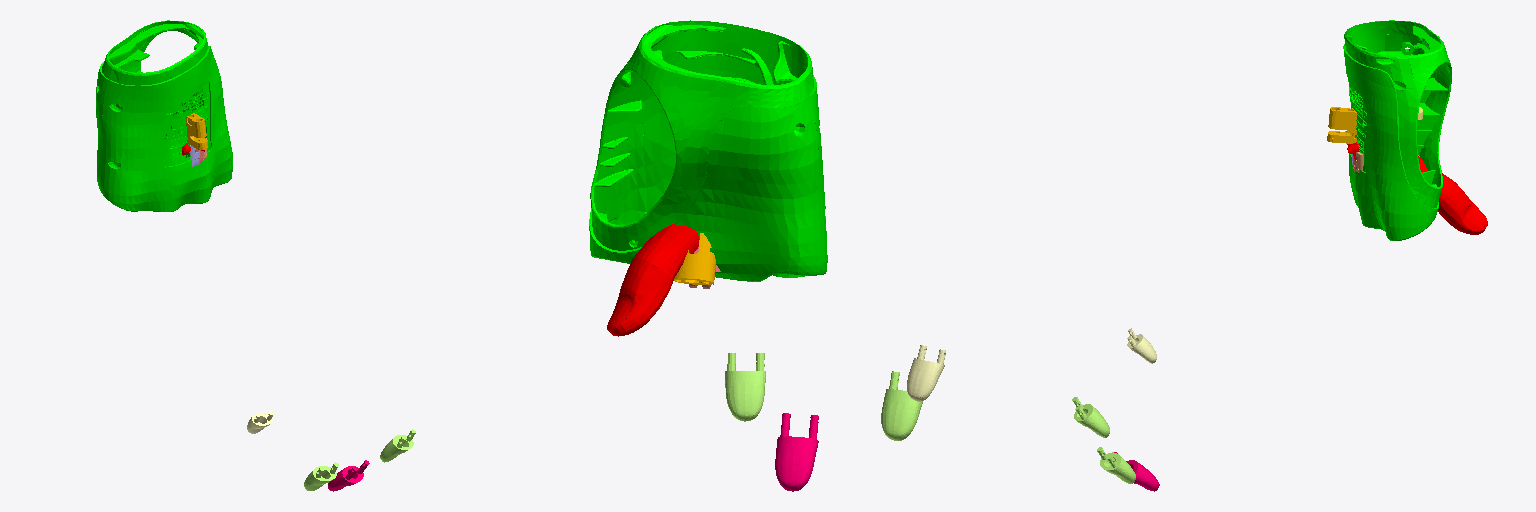
--- Render facts (derived) ---
Views: 3 orthographic renders of the robot side by side, from view 1: azimuth 30°, elevation 25°; view 2: azimuth 150°, elevation 25°; view 3: azimuth 270°, elevation 25°.
Robot: COVER — 24 links, 23 joints (12 continuous, 11 fixed); root link 1_A; default pose: all joints at 0.
Visible links, largest first — view 1: 1_A, PAF1002500, PAF1004900, PAF1004800, PAF10048000; view 2: 1_A, CUTOUT, PAF1004900, PAF1004800, PAF10048000, PAF1005000, PAF1004600; view 3: 1_A, CUTOUT, PAF1002500, PAF10048000, PAF1004800, PAF1005000.
Link boxes in pixels (<box>): 1_A: <box>96,20,232,211</box>; PAF1002500: <box>186,113,207,149</box>; PAF1004900: <box>328,460,369,491</box>; PAF1004800: <box>380,429,415,462</box>; PAF10048000: <box>304,462,338,490</box>; 1_A: <box>589,20,827,281</box>; CUTOUT: <box>607,223,699,336</box>; PAF1004900: <box>775,413,818,491</box>; PAF1004800: <box>725,353,765,421</box>; PAF10048000: <box>881,371,922,440</box>; PAF1005000: <box>907,345,945,401</box>; PAF1004600: <box>674,233,715,284</box>; 1_A: <box>1343,20,1451,240</box>; CUTOUT: <box>1347,142,1487,234</box>; PAF1002500: <box>1327,107,1356,143</box>; PAF10048000: <box>1072,397,1109,437</box>; PAF1004800: <box>1097,447,1135,483</box>; PAF1005000: <box>1127,328,1156,363</box>.
Bounding box of the posed robot: 118 × 206 × 231 m (x, y, z).
24 mesh visuals loaded from 21 distinct referenced files (21 binary STL).

URDF robot description (COVER):
<robot name="COVER">
  <link name="1_A">
    <inertial>
      <origin xyz="-0.00851236 -0.000890128 0.00760393" rpy="0 0 0"/>
      <mass value="33073300.0"/>
      <inertia ixx="27909.2" ixy="-734.642" ixz="2667.27" iyy="41786.8" iyz="-818.311" izz="27561.8"/>
    </inertial>
    <visual>
      <origin xyz="0 0 0" rpy="0 0 0"/>
      <geometry>
        <mesh filename="package://advr_mob_plt_description/urdf/meshes/1_a_asm-binary.stl"/>
      </geometry>
      <material name="green">
        <color rgba="0 1 0 1"/>
      </material>
    </visual>
    <collision>
      <origin xyz="0 0 0" rpy="0 0 0"/>
      <geometry>
        <mesh filename="package://advr_mob_plt_description/urdf/meshes/1_a_asm-binary.stl"/>
      </geometry>
    </collision>
  </link>
  <link name="PAF1003500">
    <inertial>
      <origin xyz="0.0565801 -0.00585679742923 0.0144999582113" rpy="0 0 0"/>
      <mass value="0.0178762"/>
      <inertia ixx="1.68676e-07" ixy="-8.48721e-10" ixz="0.0" iyy="2.08482e-07" iyz="-1.75547e-10" izz="3.51666e-07"/>
    </inertial>
    <visual>
      <origin xyz="0.0579 -0.0058655590092 0.0129999547585" rpy="0 0 0"/>
      <geometry>
        <mesh filename="package://advr_mob_plt_description/urdf/meshes/paf1003500_prt-binary.stl"/>
      </geometry>
      <material name="PAF1003500_color">
        <color rgba="1.0 0.75 0.5 1.0"/>
      </material>
    </visual>
    <collision>
      <origin xyz="0.0579 -0.0058655590092 0.0129999547585" rpy="0 0 0"/>
      <geometry>
        <mesh filename="package://advr_mob_plt_description/urdf/meshes/paf1003500_prt-binary.stl"/>
      </geometry>
    </collision>
  </link>
  <joint name="1_A--PAF1003500" type="fixed">
    <origin xyz="0.0064 0.0129326 0.0275" rpy="1.04719714741 1.57079632679 0"/>
    <axis xyz="1.0 0.0 1.11022302463e-16"/>
    <parent link="1_A"/>
    <child link="PAF1003500"/>
    <!-- <limit effort="10000" lower="-10000" upper="10000" velocity="10000"/> -->
    <dynamics damping="0.1"/>
  </joint>
  <link name="PAF1003600">
    <inertial>
      <origin xyz="-0.00116205216058 3.05791691174e-06 0.00150000896652" rpy="0 0 0"/>
      <mass value="0.0185208"/>
      <inertia ixx="1.7357e-07" ixy="-3.02838e-10" ixz="0.0" iyy="2.2409e-07" iyz="2.813e-10" izz="3.71201e-07"/>
    </inertial>
    <visual>
      <origin xyz="0 0 0" rpy="0 0 0"/>
      <geometry>
        <mesh filename="package://advr_mob_plt_description/urdf/meshes/paf1003600_prt-binary.stl"/>
      </geometry>
      <material name="PAF1003600_color">
        <color rgba="1.0 1.0 0.5 1.0"/>
      </material>
    </visual>
    <collision>
      <origin xyz="0 0 0" rpy="0 0 0"/>
      <geometry>
        <mesh filename="package://advr_mob_plt_description/urdf/meshes/paf1003600_prt-binary.stl"/>
      </geometry>
    </collision>
  </link>
  <joint name="PAF1003500--PAF1003600" type="fixed">
    <origin xyz="0.0592001 -0.0253344455309 0.00558093270826" rpy="0.610667950713 0.0166457985469 -0.0338769692659"/>
    <parent link="PAF1003500"/>
    <child link="PAF1003600"/>
    <dynamics damping="0.1"/>
  </joint>
  <link name="PAF1003700">
    <inertial>
      <origin xyz="-0.00155187581715 2.24507211835e-06 0.00110000076463" rpy="0 0 0"/>
      <mass value="0.012343"/>
      <inertia ixx="1.12951e-07" ixy="-1.54627e-10" ixz="0.0" iyy="1.32077e-07" iyz="1.73155e-11" izz="2.35416e-07"/>
    </inertial>
    <visual>
      <origin xyz="0 0 0" rpy="0 0 0"/>
      <geometry>
        <mesh filename="package://advr_mob_plt_description/urdf/meshes/paf1003700_prt-binary.stl"/>
      </geometry>
      <material name="black">
        <color rgba="0 0 0 1"/>
      </material>
    </visual>
    <collision>
      <origin xyz="0 0 0" rpy="0 0 0"/>
      <geometry>
        <mesh filename="package://advr_mob_plt_description/urdf/meshes/paf1003700_prt-binary.stl"/>
      </geometry>
    </collision>
  </link>
  <joint name="PAF1003600--PAF1003700" type="fixed">
    <origin xyz="-0.010973824593 -0.0237500416593 0.0027448885293" rpy="2.89289229734e-07 0.0108849789956 2.60776268803e-07"/>
    <parent link="PAF1003600"/>
    <child link="PAF1003700"/>
    <dynamics damping="0.1"/>
  </joint>
  <link name="PAF1004101">
    <inertial>
      <origin xyz="0.00337449004586 0.00346063716788 5.24457528966e-06" rpy="0 0 0"/>
      <mass value="0.0285302"/>
      <inertia ixx="6.75022e-07" ixy="-9.95271e-08" ixz="4.75049e-10" iyy="6.18247e-07" iyz="-2.22533e-10" izz="1.06625e-06"/>
    </inertial>
    <visual>
      <origin xyz="-0.00349994987012 -0.00602711473712 0" rpy="0 0 0"/>
      <geometry>
        <mesh filename="package://advr_mob_plt_description/urdf/meshes/paf1004101_prt-binary.stl"/>
      </geometry>
      <material name="PAF1004101_color">
        <color rgba="0.75 1.0 0.5 1.0"/>
      </material>
    </visual>
    <collision>
      <origin xyz="-0.00349994987012 -0.00602711473712 0" rpy="0 0 0"/>
      <geometry>
        <mesh filename="package://advr_mob_plt_description/urdf/meshes/paf1004101_prt-binary.stl"/>
      </geometry>
    </collision>
  </link>
  <joint name="PAF1003700--PAF1004101" type="continuous">
    <origin xyz="0.00409999738364 -0.00022020930368 -0.00208128063487" rpy="1.51319995882 0 -1.92248358723e-07"/>
    <axis xyz="8.10671871038e-09 -0.999999773716 -2.05797691055e-08"/>
    <parent link="PAF1003700"/>
    <child link="PAF1004101"/>
    <dynamics damping="0.1"/>
  </joint>
  <link name="PAF1004401">
    <inertial>
      <origin xyz="0 -0.000635181088434 0.0128666591798" rpy="0 0 0"/>
      <mass value="0.0032677"/>
      <inertia ixx="2.13703e-07" ixy="0.0" ixz="0.0" iyy="2.30372e-07" iyz="4.37112e-09" izz="8.40469e-08"/>
    </inertial>
    <visual>
      <origin xyz="0 -0.00100001306321 -0.00275005057186" rpy="0 0 0"/>
      <geometry>
        <mesh filename="package://advr_mob_plt_description/urdf/meshes/paf1004401_prt-binary.stl"/>
      </geometry>
      <material name="PAF1004401_color">
        <color rgba="1.0 0.75 1.0 1.0"/>
      </material>
    </visual>
    <collision>
      <origin xyz="0 -0.00100001306321 -0.00275005057186" rpy="0 0 0"/>
      <geometry>
        <mesh filename="package://advr_mob_plt_description/urdf/meshes/paf1004401_prt-binary.stl"/>
      </geometry>
    </collision>
  </link>
  <joint name="PAF1004101--PAF1004401" type="continuous">
    <origin xyz="0.00680006790744 0.00287288887084 0" rpy="-0.0650227536044 1.57079620993 -0.145307867413"/>
    <axis xyz="0.999999678896 1.99802328055e-08 2.77878688046e-08"/>
    <parent link="PAF1004101"/>
    <child link="PAF1004401"/>
    <dynamics damping="0.1"/>
  </joint>
  <link name="PAF1004700">
    <inertial>
      <origin xyz="0 -0.000509435776404 -0.00958875825158" rpy="0 0 0"/>
      <mass value="0.0408908"/>
      <inertia ixx="2.14528e-06" ixy="0.0" ixz="0.0" iyy="2.51952e-06" iyz="4.17804e-08" izz="8.9931e-07"/>
    </inertial>
    <visual>
      <origin xyz="0 0 0.00385999069066" rpy="0 0 0"/>
      <geometry>
        <mesh filename="package://advr_mob_plt_description/urdf/meshes/paf1004700_prt-binary.stl"/>
      </geometry>
      <material name="PAF1004700_color">
        <color rgba="0.75 0.75 0.75 1.0"/>
      </material>
    </visual>
    <collision>
      <origin xyz="0 0 0.00385999069066" rpy="0 0 0"/>
      <geometry>
        <mesh filename="package://advr_mob_plt_description/urdf/meshes/paf1004700_prt-binary.stl"/>
      </geometry>
    </collision>
  </link>
  <joint name="PAF1004401--PAF1004700" type="continuous">
    <origin xyz="0 0 0.0264999181582" rpy="-2.74016716134 0 0"/>
    <axis xyz="-0.999999678896 -1.31398492954e-08 3.17077668288e-09"/>
    <parent link="PAF1004401"/>
    <child link="PAF1004700"/>
    <dynamics damping="0.1"/>
  </joint>
  <link name="PAF1005000">
    <inertial>
      <origin xyz="-0.00821744275544 0.166383805335 0.0478608998359" rpy="0 0 0"/>
      <mass value="0.000756894"/>
      <inertia ixx="1.78823e-08" ixy="-2.37701e-10" ixz="4.71138e-11" iyy="2.20045e-08" iyz="3.42609e-09" izz="1.21599e-08"/>
    </inertial>
    <visual>
      <origin xyz="0 0 0" rpy="0 0 0"/>
      <geometry>
        <mesh filename="package://advr_mob_plt_description/urdf/meshes/paf1005000_prt-binary.stl"/>
      </geometry>
      <material name="PAF1005000_color">
        <color rgba="1.0 1.0 0.75 1.0"/>
      </material>
    </visual>
    <collision>
      <origin xyz="0 0 0" rpy="0 0 0"/>
      <geometry>
        <mesh filename="package://advr_mob_plt_description/urdf/meshes/paf1005000_prt-binary.stl"/>
      </geometry>
    </collision>
  </link>
  <joint name="PAF1004700--PAF1005000" type="fixed">
    <origin xyz="0.0102527127127 0.167912488786 0.0224838246708" rpy="-3.14159235185 0 -0.0121810646353"/>
    <parent link="PAF1004700"/>
    <child link="PAF1005000"/>
    <dynamics damping="0.1"/>
  </joint>
  <link name="PAF1003400">
    <inertial>
      <origin xyz="-0.0013145 8.67863770326e-06 0.00149996711302" rpy="0 0 0"/>
      <mass value="0.0532202"/>
      <inertia ixx="5.01885e-07" ixy="-2.49665e-09" ixz="0.0" iyy="6.217e-07" iyz="-5.68401e-11" izz="1.04769e-06"/>
    </inertial>
    <visual>
      <origin xyz="0 0 0" rpy="0 0 0"/>
      <geometry>
        <mesh filename="package://advr_mob_plt_description/urdf/meshes/paf1003400_prt-binary.stl"/>
      </geometry>
      <material name="PAF1003400_color">
        <color rgba="0.25 0.5 0.0 1.0"/>
      </material>
    </visual>
    <collision>
      <origin xyz="0 0 0" rpy="0 0 0"/>
      <geometry>
        <mesh filename="package://advr_mob_plt_description/urdf/meshes/paf1003400_prt-binary.stl"/>
      </geometry>
    </collision>
  </link>
  <joint name="1_A--PAF1003400" type="fixed">
    <origin xyz="0.0274589 0.0104263 -0.0272" rpy="1.04719714741 1.57079632679 0"/>
    <parent link="1_A"/>
    <child link="PAF1003400"/>
    <dynamics damping="0.1"/>
  </joint>
  <link name="PAF1003801">
    <inertial>
      <origin xyz="0.0038461 0.00438742504662 1.07098420216e-05" rpy="0 0 0"/>
      <mass value="0.103446"/>
      <inertia ixx="3.58836e-06" ixy="-5.21846e-07" ixz="4.01023e-09" iyy="2.78015e-06" iyz="2.538e-09" izz="4.97765e-06"/>
    </inertial>
    <visual>
      <origin xyz="-0.0035 -0.00698064435777 0" rpy="0 0 0"/>
      <geometry>
        <mesh filename="package://advr_mob_plt_description/urdf/meshes/paf1003801_prt-binary.stl"/>
      </geometry>
      <material name="PAF1003801_color">
        <color rgba="1.0 0.75 0.5 1.0"/>
      </material>
    </visual>
    <collision>
      <origin xyz="-0.0035 -0.00698064435777 0" rpy="0 0 0"/>
      <geometry>
        <mesh filename="package://advr_mob_plt_description/urdf/meshes/paf1003801_prt-binary.stl"/>
      </geometry>
    </collision>
  </link>
  <joint name="PAF1003400--PAF1003801" type="continuous">
    <origin xyz="0.0041 -6.04044680737e-05 -0.00111717563536" rpy="1.58824971908 0 0"/>
    <axis xyz="0.0 -1.00000044025 -1.13856436057e-07"/>
    <parent link="PAF1003400"/>
    <child link="PAF1003801"/>
    <dynamics damping="0.1"/>
  </joint>
  <link name="PAF1004201">
    <inertial>
      <origin xyz="0 -0.00245137136553 0.015615295202" rpy="0 0 0"/>
      <mass value="0.0118295"/>
      <inertia ixx="9.70967e-07" ixy="0.0" ixz="0.0" iyy="1.04991e-06" iyz="2.74792e-08" izz="4.78951e-07"/>
    </inertial>
    <visual>
      <origin xyz="0 -0.00299995632618 -0.00274996304264" rpy="0 0 0"/>
      <geometry>
        <mesh filename="package://advr_mob_plt_description/urdf/meshes/paf1004201_prt-binary.stl"/>
      </geometry>
      <material name="PAF1004201_color">
        <color rgba="0.75 1.0 1.0 1.0"/>
      </material>
    </visual>
    <collision>
      <origin xyz="0 -0.00299995632618 -0.00274996304264" rpy="0 0 0"/>
      <geometry>
        <mesh filename="package://advr_mob_plt_description/urdf/meshes/paf1004201_prt-binary.stl"/>
      </geometry>
    </collision>
  </link>
  <joint name="PAF1003801--PAF1004201" type="continuous">
    <origin xyz="0.0068 0.00361931686599 0" rpy="1.61820653951 1.57079602112 1.56584662577"/>
    <axis xyz="1.00000044025 -1.91634382918e-07 8.52805280907e-09"/>
    <parent link="PAF1003801"/>
    <child link="PAF1004201"/>
    <dynamics damping="0.1"/>
  </joint>
  <link name="PAF1004500">
    <inertial>
      <origin xyz="0 0.000378038466131 -0.0131533470868" rpy="0 0 0"/>
      <mass value="0.190202"/>
      <inertia ixx="1.5478e-05" ixy="0.0" ixz="0.0" iyy="1.78731e-05" iyz="8.8021e-07" izz="6.19301e-06"/>
    </inertial>
    <visual>
      <origin xyz="0 0.000999972692264 0.00385996745234" rpy="0 0 0"/>
      <geometry>
        <mesh filename="package://advr_mob_plt_description/urdf/meshes/paf1004500_prt-binary.stl"/>
      </geometry>
      <material name="PAF1004500_color">
        <color rgba="1.0 0.5 0.5 1.0"/>
      </material>
    </visual>
    <collision>
      <origin xyz="0 0.000999972692264 0.00385996745234" rpy="0 0 0"/>
      <geometry>
        <mesh filename="package://advr_mob_plt_description/urdf/meshes/paf1004500_prt-binary.stl"/>
      </geometry>
    </collision>
  </link>
  <joint name="PAF1004201--PAF1004500" type="continuous">
    <origin xyz="0 -0.00199998503613 0.0304999704087" rpy="-2.68780710036 2.39771271023e-07 0"/>
    <axis xyz="-1.00000044025 -6.51257134887e-08 3.08022348461e-07"/>
    <parent link="PAF1004201"/>
    <child link="PAF1004500"/>
    <dynamics damping="0.1"/>
  </joint>
  <link name="PAF1004800">
    <inertial>
      <origin xyz="-0.0099602563359 0.201702352802 0.0578870067878" rpy="0 0 0"/>
      <mass value="0.00137117"/>
      <inertia ixx="4.86452e-08" ixy="-6.1421e-10" ixz="1.24462e-10" iyy="5.9837e-08" iyz="9.17469e-09" izz="3.23765e-08"/>
    </inertial>
    <visual>
      <origin xyz="0 0 0" rpy="0 0 0"/>
      <geometry>
        <mesh filename="package://advr_mob_plt_description/urdf/meshes/paf1004800_prt-binary.stl"/>
      </geometry>
      <material name="PAF1004800_color">
        <color rgba="0.75 1.0 0.5 1.0"/>
      </material>
    </visual>
    <collision>
      <origin xyz="0 0 0" rpy="0 0 0"/>
      <geometry>
        <mesh filename="package://advr_mob_plt_description/urdf/meshes/paf1004800_prt-binary.stl"/>
      </geometry>
    </collision>
  </link>
  <joint name="PAF1004500--PAF1004800" type="fixed">
    <origin xyz="0.012634062015 0.204488748855 0.0245263019307" rpy="3.14159234484 0 -0.0131926098327"/>
    <parent link="PAF1004500"/>
    <child link="PAF1004800"/>
    <dynamics damping="0.1"/>
  </joint>
  <link name="PAF1002300">
    <inertial>
      <origin xyz="0.00253507204005 -0.00229951276095 0.00618126851302" rpy="0 0 0"/>
      <mass value="48784.5"/>
      <inertia ixx="5.95798" ixy="-0.401445" ixz="-0.35458" iyy="5.30297" iyz="-0.836671" izz="1.73284"/>
    </inertial>
    <visual>
      <origin xyz="0 0 0" rpy="0 0 0"/>
      <geometry>
        <mesh filename="package://advr_mob_plt_description/urdf/meshes/paf1002300_prt-binary.stl"/>
      </geometry>
      <material name="PAF1002300_color">
        <color rgba="1.0 1.0 0.53 1.0"/>
      </material>
    </visual>
    <collision>
      <origin xyz="0 0 0" rpy="0 0 0"/>
      <geometry>
        <mesh filename="package://advr_mob_plt_description/urdf/meshes/paf1002300_prt-binary.stl"/>
      </geometry>
    </collision>
  </link>
  <joint name="1_A--PAF1002300" type="fixed">
    <origin xyz="0.0198447 0.0133727 0.00627751" rpy="-0.123389636399 0.0215437373873 0.976908191421"/>
    <parent link="1_A"/>
    <child link="PAF1002300"/>
    <dynamics damping="0.1"/>
  </joint>
  <link name="PAF1002500">
    <inertial>
      <origin xyz="-0.00275808533534 3.52640456902e-06 0.0111128431851" rpy="0 0 0"/>
      <mass value="0.0602771"/>
      <inertia ixx="2.98829e-06" ixy="-7.6075e-09" ixz="-2.00989e-06" iyy="6.42168e-06" iyz="6.01804e-09" izz="3.96698e-06"/>
    </inertial>
    <visual>
      <origin xyz="-0.0166000096495 0 0.0299756090659" rpy="0 0 0"/>
      <geometry>
        <mesh filename="package://advr_mob_plt_description/urdf/meshes/paf1002500_prt-binary.stl"/>
      </geometry>
      <material name="PAF1002500_color">
        <color rgba="1.0 0.75 0.0 1.0"/>
      </material>
    </visual>
    <collision>
      <origin xyz="-0.0166000096495 0 0.0299756090659" rpy="0 0 0"/>
      <geometry>
        <mesh filename="package://advr_mob_plt_description/urdf/meshes/paf1002500_prt-binary.stl"/>
      </geometry>
    </collision>
  </link>
  <joint name="PAF1002300--PAF1002500" type="continuous">
    <origin xyz="0.00300004969001 0.00200000069035 0.0150000109907" rpy="-2.49288797385 -1.57079573376 -0.0203859886655"/>
    <axis xyz="-1.0000001741 4.77024647005e-07 2.31302308709e-07"/>
    <parent link="PAF1002300"/>
    <child link="PAF1002500"/>
    <dynamics damping="0.1"/>
  </joint>
  <link name="CUTOUT">
    <inertial>
      <origin xyz="-0.00427890232251 0.0428929456311 0.0212657717695" rpy="0 0 0"/>
      <mass value="179552000.0"/>
      <inertia ixx="32967.8" ixy="1307.73" ixz="2032.15" iyy="18273.7" iyz="-13519.7" izz="22160.5"/>
    </inertial>
    <visual>
      <origin xyz="0 0.0168000118318 -0.00395002489474" rpy="0 0 0"/>
      <geometry>
        <mesh filename="package://advr_mob_plt_description/urdf/meshes/cutout_asm-binary.stl"/>
      </geometry>
      <material name="red">
        <color rgba="1 0 0 1"/>
      </material>
    </visual>
    <collision>
      <origin xyz="0 0.0168000118318 -0.00395002489474" rpy="0 0 0"/>
      <geometry>
        <mesh filename="package://advr_mob_plt_description/urdf/meshes/cutout_asm-binary.stl"/>
      </geometry>
    </collision>
  </link>
  <joint name="PAF1002500--CUTOUT" type="continuous">
    <origin xyz="0.00739996744688 0 0.0211499675285" rpy="1.51980062539 -1.31188481634e-07 -1.57079678869"/>
    <axis xyz="1.00000033972 1.92759832931e-08 -1.39895338369e-08"/>
    <parent link="PAF1002500"/>
    <child link="CUTOUT"/>
    <dynamics damping="0.1"/>
  </joint>
  <link name="PAF1003901">
    <inertial>
      <origin xyz="0.0073481 0.0113598209544 8.01978724352e-06" rpy="0 0 0"/>
      <mass value="0.100064"/>
      <inertia ixx="3.47461e-06" ixy="-5.08058e-07" ixz="2.92797e-09" iyy="2.68917e-06" iyz="6.72829e-09" izz="4.81884e-06"/>
    </inertial>
    <visual>
      <origin xyz="0 0 0" rpy="0 0 0"/>
      <geometry>
        <mesh filename="package://advr_mob_plt_description/urdf/meshes/paf1003901_prt-binary.stl"/>
      </geometry>
      <material name="PAF1003901_color">
        <color rgba="1.0 0.5 0.5 1.0"/>
      </material>
    </visual>
    <collision>
      <origin xyz="0 0 0" rpy="0 0 0"/>
      <geometry>
        <mesh filename="package://advr_mob_plt_description/urdf/meshes/paf1003901_prt-binary.stl"/>
      </geometry>
    </collision>
  </link>
  <joint name="1_A--PAF1003901" type="fixed">
    <origin xyz="0.00501112 0.00642236 -0.031" rpy="2.77507338117 1.57079632679 0"/>
    <parent link="1_A"/>
    <child link="PAF1003901"/>
    <dynamics damping="0.1"/>
  </joint>
  <link name="PAF1004301">
    <inertial>
      <origin xyz="0 -0.00252752490586 0.0170952088421" rpy="0 0 0"/>
      <mass value="0.332988"/>
      <inertia ixx="3.11824e-05" ixy="0.0" ixz="0.0" iyy="3.3177e-05" iyz="7.74984e-07" izz="1.34653e-05"/>
    </inertial>
    <visual>
      <origin xyz="0 -0.00299999735365 -0.00274996097933" rpy="0 0 0"/>
      <geometry>
        <mesh filename="package://advr_mob_plt_description/urdf/meshes/paf1004301_prt-binary.stl"/>
      </geometry>
      <material name="PAF1004301_color">
        <color rgba="0.75 0.5 0.5 1.0"/>
      </material>
    </visual>
    <collision>
      <origin xyz="0 -0.00299999735365 -0.00274996097933" rpy="0 0 0"/>
      <geometry>
        <mesh filename="package://advr_mob_plt_description/urdf/meshes/paf1004301_prt-binary.stl"/>
      </geometry>
    </collision>
  </link>
  <joint name="PAF1003901--PAF1004301" type="continuous">
    <origin xyz="0.0103 0.0105999975515 0" rpy="2.42173061657 1.57079629976 2.36937073268"/>
    <axis xyz="0.999999619912 -8.81751169857e-08 2.40175518709e-08"/>
    <parent link="PAF1003901"/>
    <child link="PAF1004301"/>
    <dynamics damping="0.1"/>
  </joint>
  <link name="PAF1004600">
    <inertial>
      <origin xyz="0 0.000411225942409 -0.0151843696958" rpy="0 0 0"/>
      <mass value="0.221705"/>
      <inertia ixx="2.18438e-05" ixy="0.0" ixz="0.0" iyy="2.42753e-05" iyz="1.21878e-06" izz="7.13719e-06"/>
    </inertial>
    <visual>
      <origin xyz="0 0.00100000491117 0.00386000785583" rpy="0 0 0"/>
      <geometry>
        <mesh filename="package://advr_mob_plt_description/urdf/meshes/paf1004600_prt-binary.stl"/>
      </geometry>
      <material name="PAF1004600_color">
        <color rgba="1.0 0.75 0.0 1.0"/>
      </material>
    </visual>
    <collision>
      <origin xyz="0 0.00100000491117 0.00386000785583" rpy="0 0 0"/>
      <geometry>
        <mesh filename="package://advr_mob_plt_description/urdf/meshes/paf1004600_prt-binary.stl"/>
      </geometry>
    </collision>
  </link>
  <joint name="PAF1004301--PAF1004600" type="continuous">
    <origin xyz="0 -0.0019999996639 0.0334999824782" rpy="-2.56563394261 2.42625558312e-07 0"/>
    <axis xyz="-0.999999619912 1.24171011417e-07 2.37297750894e-07"/>
    <parent link="PAF1004301"/>
    <child link="PAF1004600"/>
    <dynamics damping="0.1"/>
  </joint>
  <link name="PAF1004900">
    <inertial>
      <origin xyz="-0.00995657784312 0.202022793011 0.0571031415645" rpy="0 0 0"/>
      <mass value="0.00168109"/>
      <inertia ixx="7.54518e-08" ixy="-7.0908e-10" ixz="1.37313e-10" iyy="8.70907e-08" iyz="1.55857e-08" izz="4.02854e-08"/>
    </inertial>
    <visual>
      <origin xyz="0 0 0" rpy="0 0 0"/>
      <geometry>
        <mesh filename="package://advr_mob_plt_description/urdf/meshes/paf1004900_prt-binary.stl"/>
      </geometry>
      <material name="PAF1004900_color">
        <color rgba="1.0 0.0 0.47 1.0"/>
      </material>
    </visual>
    <collision>
      <origin xyz="0 0 0" rpy="0 0 0"/>
      <geometry>
        <mesh filename="package://advr_mob_plt_description/urdf/meshes/paf1004900_prt-binary.stl"/>
      </geometry>
    </collision>
  </link>
  <joint name="PAF1004600--PAF1004900" type="fixed">
    <origin xyz="0.0126341501855 0.204934730196 0.0190362808699" rpy="3.14159261659 0 -0.0131924863988"/>
    <parent link="PAF1004600"/>
    <child link="PAF1004900"/>
    <dynamics damping="0.1"/>
  </joint>
  <link name="PAF1004001">
    <inertial>
      <origin xyz="0.00736466477151 0.0113537508232 1.12030963288e-05" rpy="0 0 0"/>
      <mass value="0.0996106"/>
      <inertia ixx="3.472e-06" ixy="-5.10258e-07" ixz="4.10239e-09" iyy="2.67736e-06" iyz="-7.64805e-09" izz="4.81157e-06"/>
    </inertial>
    <visual>
      <origin xyz="0 0 0" rpy="0 0 0"/>
      <geometry>
        <mesh filename="package://advr_mob_plt_description/urdf/meshes/paf1004001_prt-binary.stl"/>
      </geometry>
      <material name="PAF1004001_color">
        <color rgba="0.75 0.75 1.0 1.0"/>
      </material>
    </visual>
    <collision>
      <origin xyz="0 0 0" rpy="0 0 0"/>
      <geometry>
        <mesh filename="package://advr_mob_plt_description/urdf/meshes/paf1004001_prt-binary.stl"/>
      </geometry>
    </collision>
  </link>
  <joint name="1_A--PAF1004001" type="fixed">
    <origin xyz="-0.0144769 0.00364492 -0.0322562" rpy="-0.0902211351452 1.53305216713 -3.07481850054"/>
    <parent link="1_A"/>
    <child link="PAF1004001"/>
    <dynamics damping="0.1"/>
  </joint>
  <link name="PAF10042010">
    <inertial>
      <origin xyz="0 -0.00245135170565 0.0156153095918" rpy="0 0 0"/>
      <mass value="0.0118295"/>
      <inertia ixx="9.70967e-07" ixy="0.0" ixz="0.0" iyy="1.04991e-06" iyz="2.74792e-08" izz="4.78951e-07"/>
    </inertial>
    <visual>
      <origin xyz="0 -0.00299999694327 -0.00275003349694" rpy="0 0 0"/>
      <geometry>
        <mesh filename="package://advr_mob_plt_description/urdf/meshes/paf1004201_prt-binary.stl"/>
      </geometry>
      <material name="PAF10042010_color">
        <color rgba="0.75 1.0 1.0 1.0"/>
      </material>
    </visual>
    <collision>
      <origin xyz="0 -0.00299999694327 -0.00275003349694" rpy="0 0 0"/>
      <geometry>
        <mesh filename="package://advr_mob_plt_description/urdf/meshes/paf1004201_prt-binary.stl"/>
      </geometry>
    </collision>
  </link>
  <joint name="PAF1004001--PAF1004201" type="continuous">
    <origin xyz="0.0102999984262 0.0105999886236 0" rpy="-1.08341642813 1.57079591639 -1.13577614629"/>
    <axis xyz="1.00000024783 2.36992810717e-07 -1.72229714934e-08"/>
    <parent link="PAF1004001"/>
    <child link="PAF10042010"/>
    <dynamics damping="0.1"/>
  </joint>
  <link name="PAF10045000">
    <inertial>
      <origin xyz="0 0.000378035977283 -0.013153310539" rpy="0 0 0"/>
      <mass value="0.190202"/>
      <inertia ixx="1.5478e-05" ixy="0.0" ixz="0.0" iyy="1.78731e-05" iyz="8.8021e-07" izz="6.19301e-06"/>
    </inertial>
    <visual>
      <origin xyz="0 0.00100000320798 0.00385999267293" rpy="0 0 0"/>
      <geometry>
        <mesh filename="package://advr_mob_plt_description/urdf/meshes/paf1004500_prt-binary.stl"/>
      </geometry>
      <material name="PAF10045000_color">
        <color rgba="1.0 0.5 0.5 1.0"/>
      </material>
    </visual>
    <collision>
      <origin xyz="0 0.00100000320798 0.00385999267293" rpy="0 0 0"/>
      <geometry>
        <mesh filename="package://advr_mob_plt_description/urdf/meshes/paf1004500_prt-binary.stl"/>
      </geometry>
    </collision>
  </link>
  <joint name="PAF1004201--PAF10045000" type="continuous">
    <origin xyz="0 -0.00199998450996 0.0305000035141" rpy="-2.68780704307 0 3.87885381272e-07"/>
    <axis xyz="-1.00000024783 -1.20997757813e-07 9.61299631563e-08"/>
    <parent link="PAF10042010"/>
    <child link="PAF10045000"/>
    <dynamics damping="0.1"/>
  </joint>
  <link name="PAF10048000">
    <inertial>
      <origin xyz="-0.00996054373334 0.201702796943 0.0578861506305" rpy="0 0 0"/>
      <mass value="0.00137117"/>
      <inertia ixx="4.86452e-08" ixy="-6.1421e-10" ixz="1.24462e-10" iyy="5.9837e-08" iyz="9.17469e-09" izz="3.23765e-08"/>
    </inertial>
    <visual>
      <origin xyz="0 0 0" rpy="0 0 0"/>
      <geometry>
        <mesh filename="package://advr_mob_plt_description/urdf/meshes/paf1004800_prt-binary.stl"/>
      </geometry>
      <material name="PAF10048000_color">
        <color rgba="0.75 1.0 0.5 1.0"/>
      </material>
    </visual>
    <collision>
      <origin xyz="0 0 0" rpy="0 0 0"/>
      <geometry>
        <mesh filename="package://advr_mob_plt_description/urdf/meshes/paf1004800_prt-binary.stl"/>
      </geometry>
    </collision>
  </link>
  <joint name="PAF1004500--PAF10048000" type="fixed">
    <origin xyz="0.0126341894392 0.204489365538 0.0245259411149" rpy="-3.14159241184 0 -0.0131920364392"/>
    <parent link="PAF10045000"/>
    <child link="PAF10048000"/>
    <dynamics damping="0.1"/>
  </joint>
  <gazebo reference="PAF1003500">
    <visual>
      <material>
        <ambient>0.9 0.675 0.45 1.0</ambient>
        <diffuse>0.9 0.675 0.45 1.0</diffuse>
        <specular>0.8 0.6 0.4 1.0</specular>
      </material>
    </visual>
  </gazebo>
  <gazebo reference="PAF1003600">
    <visual>
      <material>
        <ambient>0.9 0.9 0.45 1.0</ambient>
        <diffuse>0.9 0.9 0.45 1.0</diffuse>
        <specular>0.8 0.8 0.4 1.0</specular>
      </material>
    </visual>
  </gazebo>
  <gazebo reference="PAF1004101">
    <visual>
      <material>
        <ambient>0.675 0.9 0.45 1.0</ambient>
        <diffuse>0.675 0.9 0.45 1.0</diffuse>
        <specular>0.6 0.8 0.4 1.0</specular>
      </material>
    </visual>
  </gazebo>
  <gazebo reference="PAF1004401">
    <visual>
      <material>
        <ambient>0.9 0.675 0.9 1.0</ambient>
        <diffuse>0.9 0.675 0.9 1.0</diffuse>
        <specular>0.8 0.6 0.8 1.0</specular>
      </material>
    </visual>
  </gazebo>
  <gazebo reference="PAF1004700">
    <visual>
      <material>
        <ambient>0.675 0.675 0.675 1.0</ambient>
        <diffuse>0.675 0.675 0.675 1.0</diffuse>
        <specular>0.6 0.6 0.6 1.0</specular>
      </material>
    </visual>
  </gazebo>
  <gazebo reference="PAF1005000">
    <visual>
      <material>
        <ambient>0.9 0.9 0.675 1.0</ambient>
        <diffuse>0.9 0.9 0.675 1.0</diffuse>
        <specular>0.8 0.8 0.6 1.0</specular>
      </material>
    </visual>
  </gazebo>
  <gazebo reference="PAF1003400">
    <visual>
      <material>
        <ambient>0.225 0.45 0.0 1.0</ambient>
        <diffuse>0.225 0.45 0.0 1.0</diffuse>
        <specular>0.2 0.4 0.0 1.0</specular>
      </material>
    </visual>
  </gazebo>
  <gazebo reference="PAF1003801">
    <visual>
      <material>
        <ambient>0.9 0.675 0.45 1.0</ambient>
        <diffuse>0.9 0.675 0.45 1.0</diffuse>
        <specular>0.8 0.6 0.4 1.0</specular>
      </material>
    </visual>
  </gazebo>
  <gazebo reference="PAF1004201">
    <visual>
      <material>
        <ambient>0.675 0.9 0.9 1.0</ambient>
        <diffuse>0.675 0.9 0.9 1.0</diffuse>
        <specular>0.6 0.8 0.8 1.0</specular>
      </material>
    </visual>
  </gazebo>
  <gazebo reference="PAF1004500">
    <visual>
      <material>
        <ambient>0.9 0.45 0.45 1.0</ambient>
        <diffuse>0.9 0.45 0.45 1.0</diffuse>
        <specular>0.8 0.4 0.4 1.0</specular>
      </material>
    </visual>
  </gazebo>
  <gazebo reference="PAF1004800">
    <visual>
      <material>
        <ambient>0.675 0.9 0.45 1.0</ambient>
        <diffuse>0.675 0.9 0.45 1.0</diffuse>
        <specular>0.6 0.8 0.4 1.0</specular>
      </material>
    </visual>
  </gazebo>
  <gazebo reference="PAF1002300">
    <visual>
      <material>
        <ambient>0.55 0.55 0.2915 1.0</ambient>
        <diffuse>1.0 1.0 0.53 1.0</diffuse>
        <specular>0.8 0.8 0.424 1.0</specular>
      </material>
    </visual>
  </gazebo>
  <gazebo reference="PAF1002500">
    <visual>
      <material>
        <ambient>0.9 0.675 0.0 1.0</ambient>
        <diffuse>0.9 0.675 0.0 1.0</diffuse>
        <specular>0.8 0.6 0.0 1.0</specular>
      </material>
    </visual>
  </gazebo>
  <gazebo reference="PAF1003901">
    <visual>
      <material>
        <ambient>0.9 0.45 0.45 1.0</ambient>
        <diffuse>0.9 0.45 0.45 1.0</diffuse>
        <specular>0.8 0.4 0.4 1.0</specular>
      </material>
    </visual>
  </gazebo>
  <gazebo reference="PAF1004301">
    <visual>
      <material>
        <ambient>0.675 0.45 0.45 1.0</ambient>
        <diffuse>0.675 0.45 0.45 1.0</diffuse>
        <specular>0.6 0.4 0.4 1.0</specular>
      </material>
    </visual>
  </gazebo>
  <gazebo reference="PAF1004600">
    <visual>
      <material>
        <ambient>0.9 0.675 0.0 1.0</ambient>
        <diffuse>0.9 0.675 0.0 1.0</diffuse>
        <specular>0.8 0.6 0.0 1.0</specular>
      </material>
    </visual>
  </gazebo>
  <gazebo reference="PAF1004900">
    <visual>
      <material>
        <ambient>0.9 0.0 0.423 1.0</ambient>
        <diffuse>0.9 0.0 0.423 1.0</diffuse>
        <specular>0.8 0.0 0.376 1.0</specular>
      </material>
    </visual>
  </gazebo>
  <gazebo reference="PAF1004001">
    <visual>
      <material>
        <ambient>0.675 0.675 0.9 1.0</ambient>
        <diffuse>0.675 0.675 0.9 1.0</diffuse>
        <specular>0.6 0.6 0.8 1.0</specular>
      </material>
    </visual>
  </gazebo>
  <gazebo reference="PAF10042010">
    <visual>
      <material>
        <ambient>0.675 0.9 0.9 1.0</ambient>
        <diffuse>0.675 0.9 0.9 1.0</diffuse>
        <specular>0.6 0.8 0.8 1.0</specular>
      </material>
    </visual>
  </gazebo>
  <gazebo reference="PAF10045000">
    <visual>
      <material>
        <ambient>0.9 0.45 0.45 1.0</ambient>
        <diffuse>0.9 0.45 0.45 1.0</diffuse>
        <specular>0.8 0.4 0.4 1.0</specular>
      </material>
    </visual>
  </gazebo>
  <gazebo reference="PAF10048000">
    <visual>
      <material>
        <ambient>0.675 0.9 0.45 1.0</ambient>
        <diffuse>0.675 0.9 0.45 1.0</diffuse>
        <specular>0.6 0.8 0.4 1.0</specular>
      </material>
    </visual>
  </gazebo>
  <gazebo>
    <pose>0.0 0.0 0.0 0.0 0.0 0.0</pose>
  </gazebo>
</robot>
